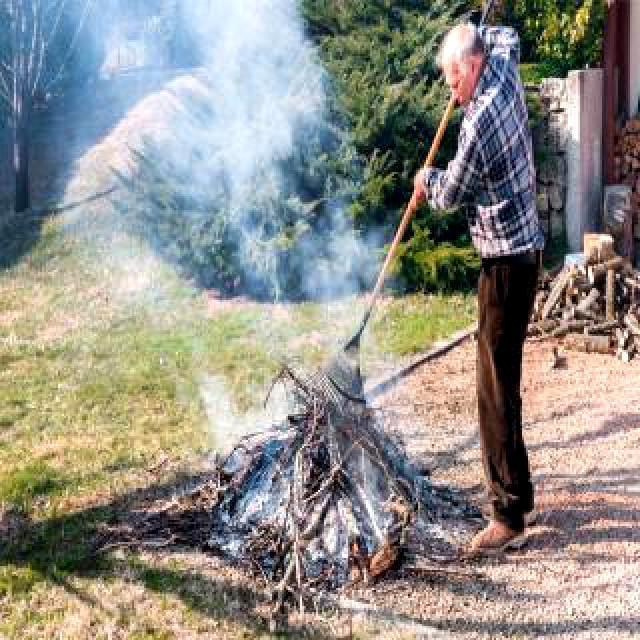Smoke: (14, 0, 393, 450)
